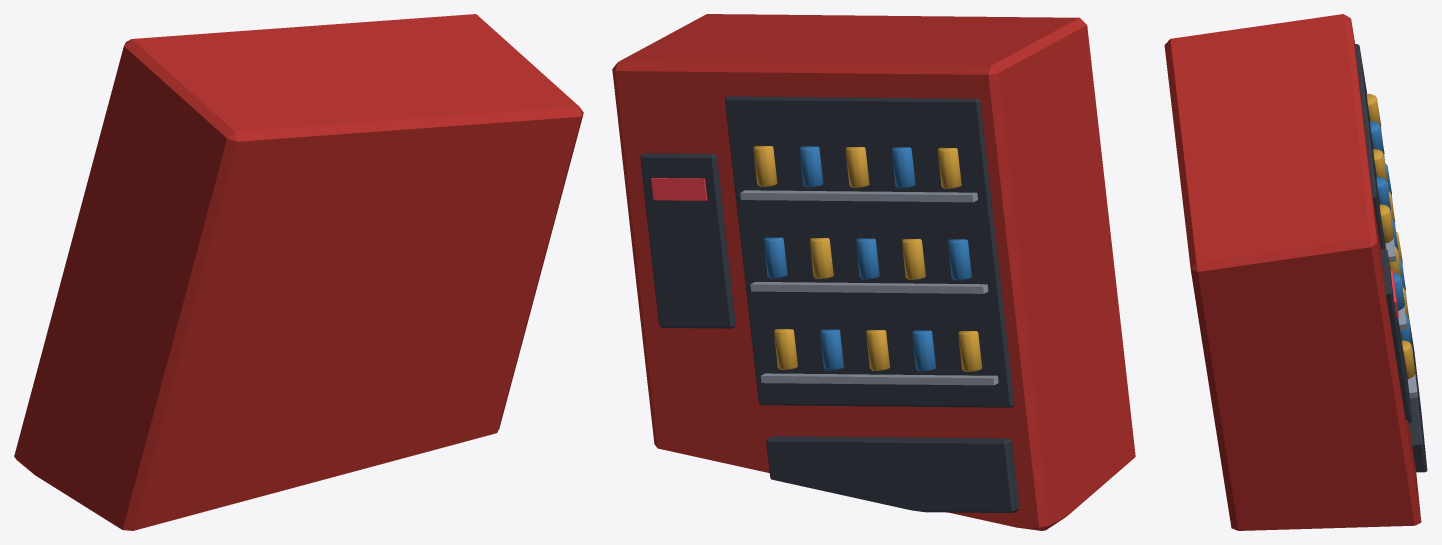
File: noclipped_vending_machine.obj
The picture shows the model from 3 angles, left to right: view 1: azimuth 30°, elevation 25°; view 2: azimuth 150°, elevation 25°; view 3: azimuth 270°, elevation 25°; orthographic projection. The views are drawn at different scales.
Parts seen in each view (by area): view 1: Cabinet; view 2: Cabinet, GlassRecess, Pickup, Panel, Shelf_0, Shelf_2, Shelf_1, Display, Can_1_4, Can_0_1, Can_1_0, Can_1_2 (+11 smaller); view 3: Cabinet, Panel, GlassRecess, Pickup, Can_2_4, Can_0_4.
Boxes of the visible parts, x1,y1,x2,y2 form: Cabinet: (14, 14, 583, 530); Cabinet: (612, 14, 1135, 530); GlassRecess: (725, 96, 1014, 407); Pickup: (766, 436, 1019, 512); Panel: (640, 153, 735, 328); Shelf_0: (760, 373, 998, 385); Shelf_2: (740, 190, 977, 202); Shelf_1: (750, 282, 988, 293); Display: (651, 178, 707, 200); Can_1_4: (763, 237, 787, 278); Can_0_1: (912, 330, 936, 371); Can_1_0: (948, 239, 971, 280); Can_1_2: (855, 238, 879, 279); Cabinet: (1164, 14, 1421, 530); Panel: (1380, 248, 1411, 419); GlassRecess: (1355, 44, 1412, 423); Pickup: (1409, 318, 1427, 472); Can_2_4: (1379, 204, 1394, 243); Can_0_4: (1402, 340, 1415, 378).
Size of the model in its own units: 2.13 by 1.87 by 1.17.
